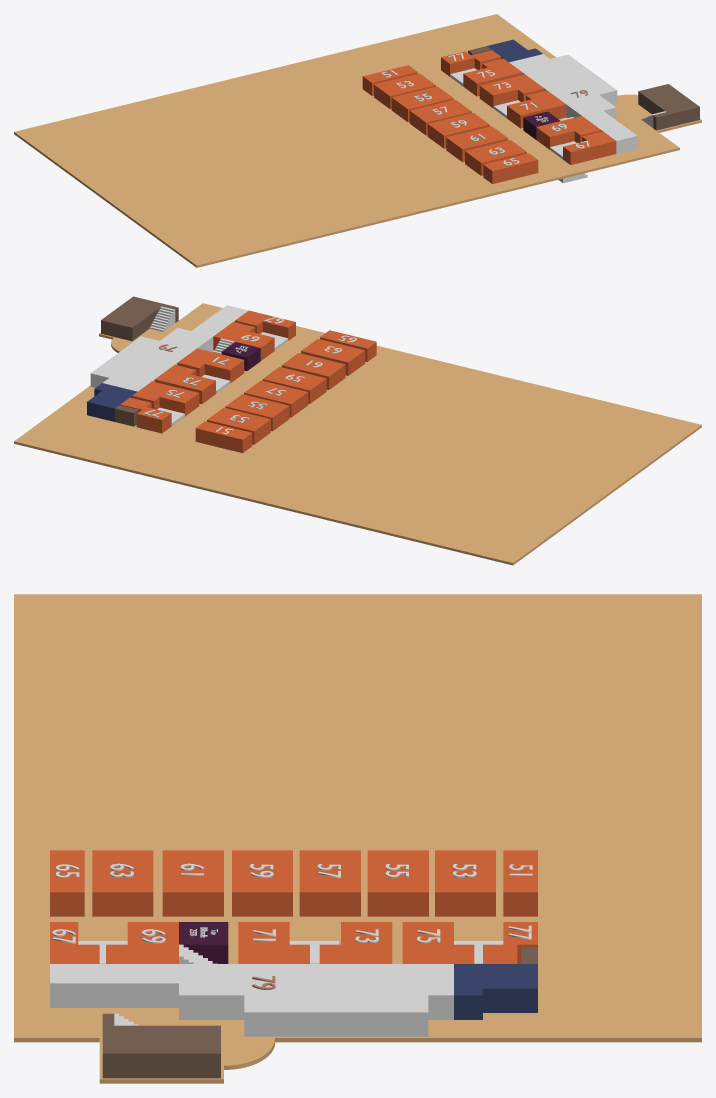
The model's file is floor1.glb.
The picture shows the model from 3 angles, top to bottom: view 1: azimuth 30°, elevation 25°; view 2: azimuth 150°, elevation 25°; view 3: azimuth 270°, elevation 25°; orthographic projection. The views are drawn at different scales.
Parts seen in each view (by area): view 1: Base, #01-79, 79 Brown block, #01-73, #01-69, #01-71, #01-67, #01-65, #01-61, #01-75, #01-59, #01-63 (+7 smaller); view 2: Base, #01-79, 79 Brown block, #01-71, #01-75, #01-51, #01-63, #01-61, #01-73, #01-57, 77 blue block, #01-53 (+8 smaller); view 3: Base, #01-79, 79 Brown block, 77 blue block, #01-61, #01-57, #01-55, #01-63, #01-53, #01-59, #01-73, #01-75 (+7 smaller).
Part boxes in pixels (x1,y1,x2,y2): Base: (14,14,701,267); #01-79: (509,54,637,153); 79 Brown block: (638,84,699,130); #01-73: (479,74,544,108); #01-69: (536,116,601,149); #01-71: (507,90,566,128); #01-67: (563,131,616,164); #01-65: (483,153,538,183); #01-61: (446,126,508,162); #01-75: (463,58,522,96); #01-59: (427,113,489,148); #01-63: (465,140,526,175); Base: (14,303,701,565); #01-79: (90,305,248,391); 79 Brown block: (101,296,178,341); #01-71: (177,348,244,383); #01-75: (132,381,199,416); #01-51: (195,421,252,453); #01-63: (301,339,365,375); #01-61: (281,353,345,389); #01-73: (154,365,215,404); #01-57: (244,380,308,417); 77 blue block: (87,383,137,421); #01-53: (207,407,270,444); Base: (14,594,701,1083); #01-79: (50,964,453,1036); 79 Brown block: (102,1013,220,1078); 77 blue block: (454,964,537,1019); #01-61: (162,850,223,916); #01-57: (299,850,360,916); #01-55: (367,850,428,916); #01-63: (92,850,153,916); #01-53: (435,850,495,916); #01-59: (232,850,292,916); #01-73: (319,922,392,963); #01-75: (402,922,474,963).
Bounding box in the file's own units: 33.91 × 2.3 × 20.34.
